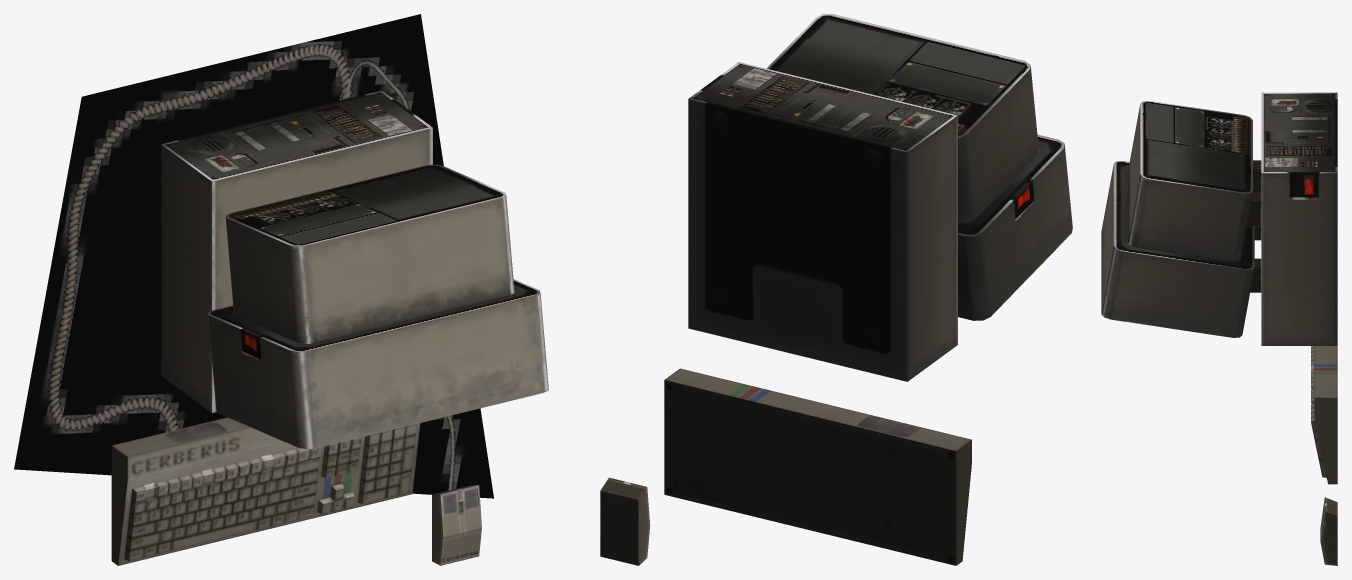
The model's file is step2.glb.
3 views of the same model, side by side, from view 1: azimuth 30°, elevation 25°; view 2: azimuth 150°, elevation 25°; view 3: azimuth 270°, elevation 25° (orthographic). The views are drawn at different scales.
Parts seen in each view (by area): view 1: ComputerTower-LowPoly.003; view 2: ComputerTower-LowPoly.003; view 3: ComputerTower-LowPoly.003.
Part boxes in pixels (bbox=[...]): ComputerTower-LowPoly.003: bbox=[14, 14, 548, 565]; ComputerTower-LowPoly.003: bbox=[600, 14, 1072, 565]; ComputerTower-LowPoly.003: bbox=[1101, 92, 1337, 565].
Bounding box in the file's own units: 86.85 × 95.07 × 49.6.
2 materials, 2 textured.
